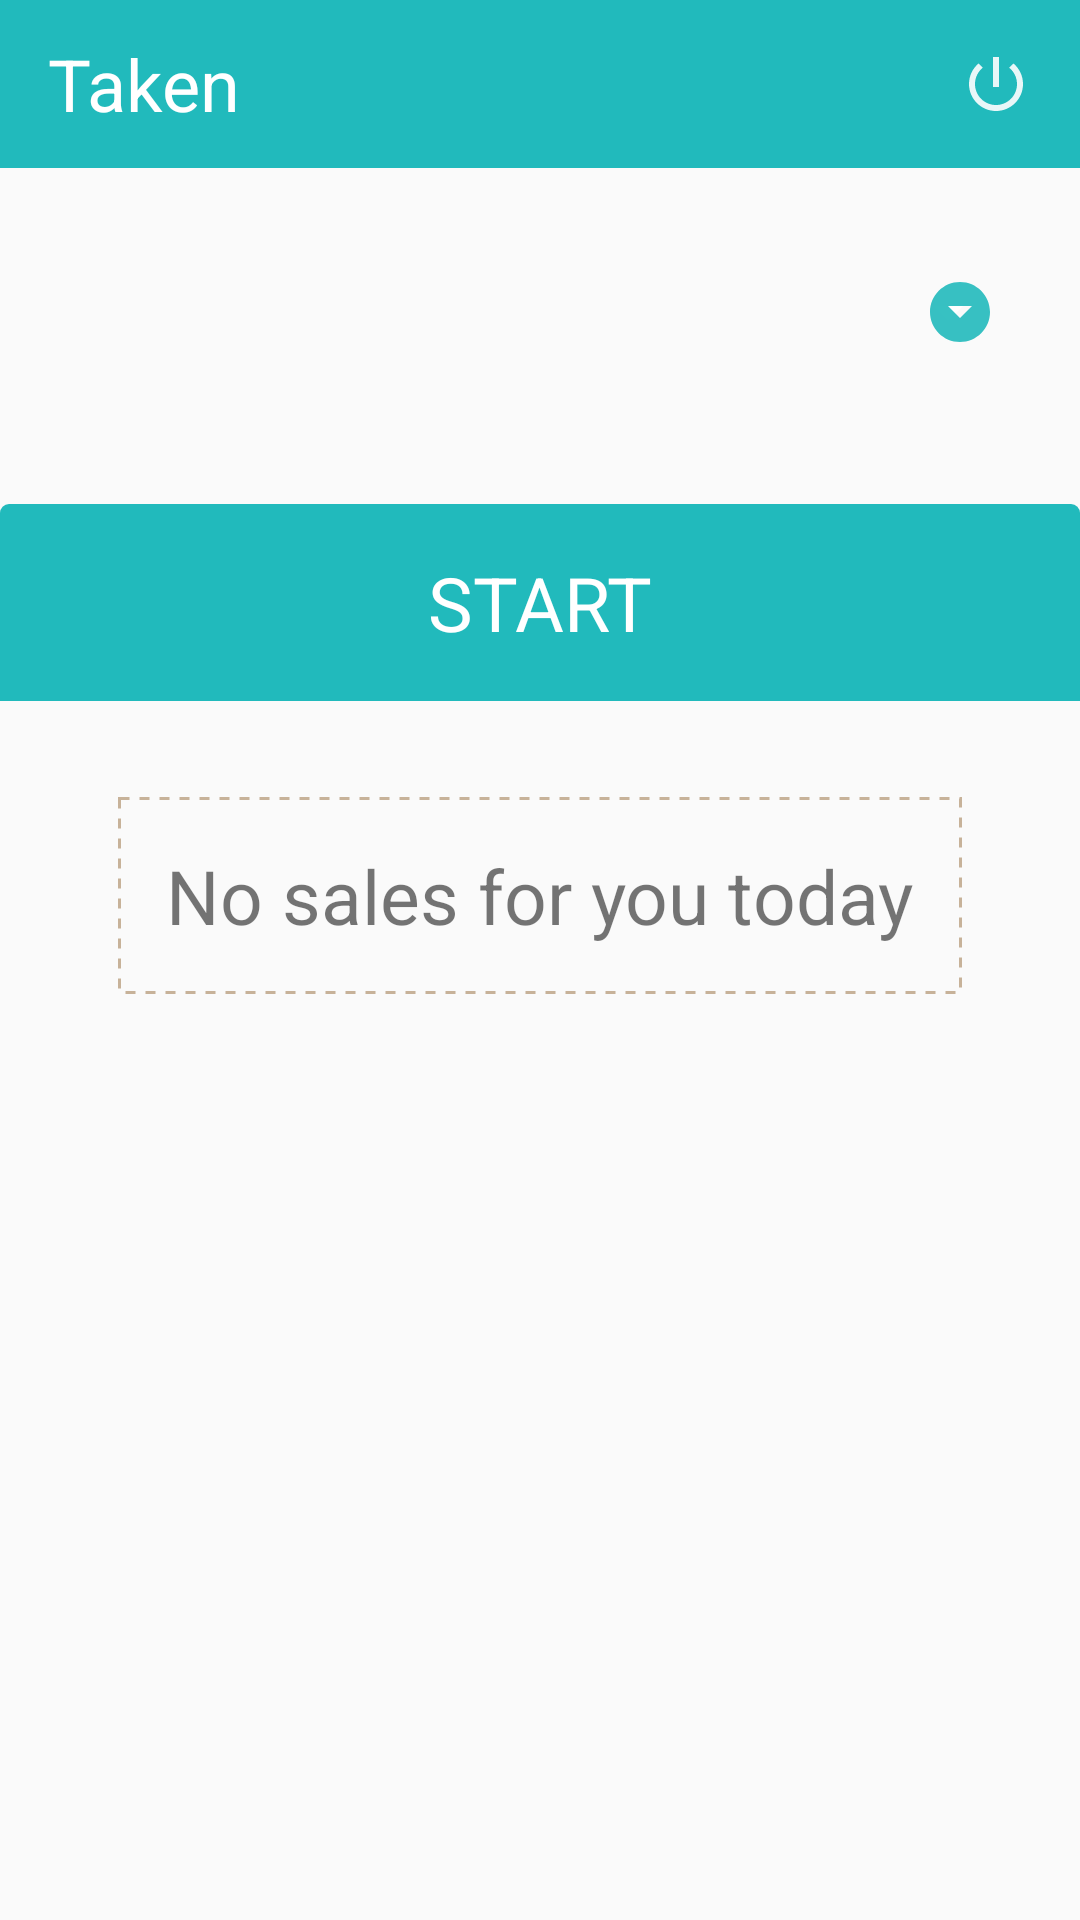

Where icons sit on this 1080*1920 app screen, as (x1,y1,x2,y2):
arrow: (930,282,990,342)
